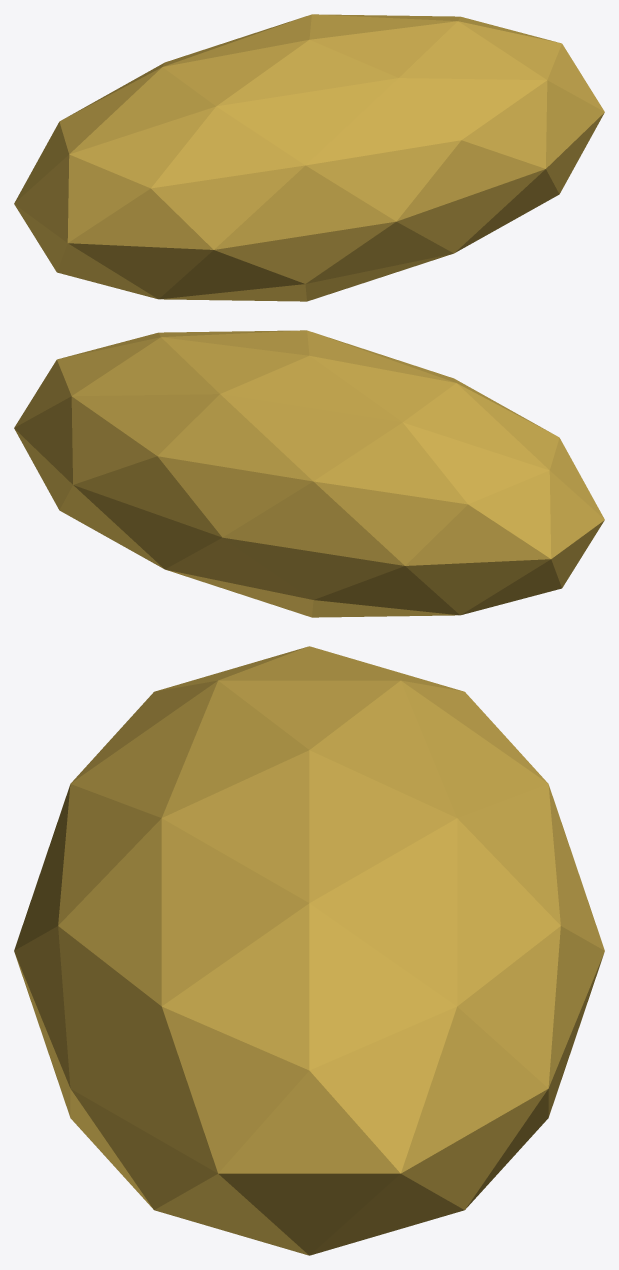
File: SM_GZ_item_traveler_bread.fbx
3 renders of one model, top to bottom at view 1: azimuth 30°, elevation 25°; view 2: azimuth 150°, elevation 25°; view 3: azimuth 270°, elevation 25°, orthographic. The views are drawn at different scales.
Parts seen in each view (by area): view 1: SM_GZ_item_traveler_bread; view 2: SM_GZ_item_traveler_bread; view 3: SM_GZ_item_traveler_bread.
Boxes of the visible parts, box(x1,y1,x2,y2) form: SM_GZ_item_traveler_bread: box(14, 14, 604, 301); SM_GZ_item_traveler_bread: box(14, 330, 604, 617); SM_GZ_item_traveler_bread: box(14, 646, 604, 1255).
Bounding box in the file's own units: 114 × 48 × 64.
